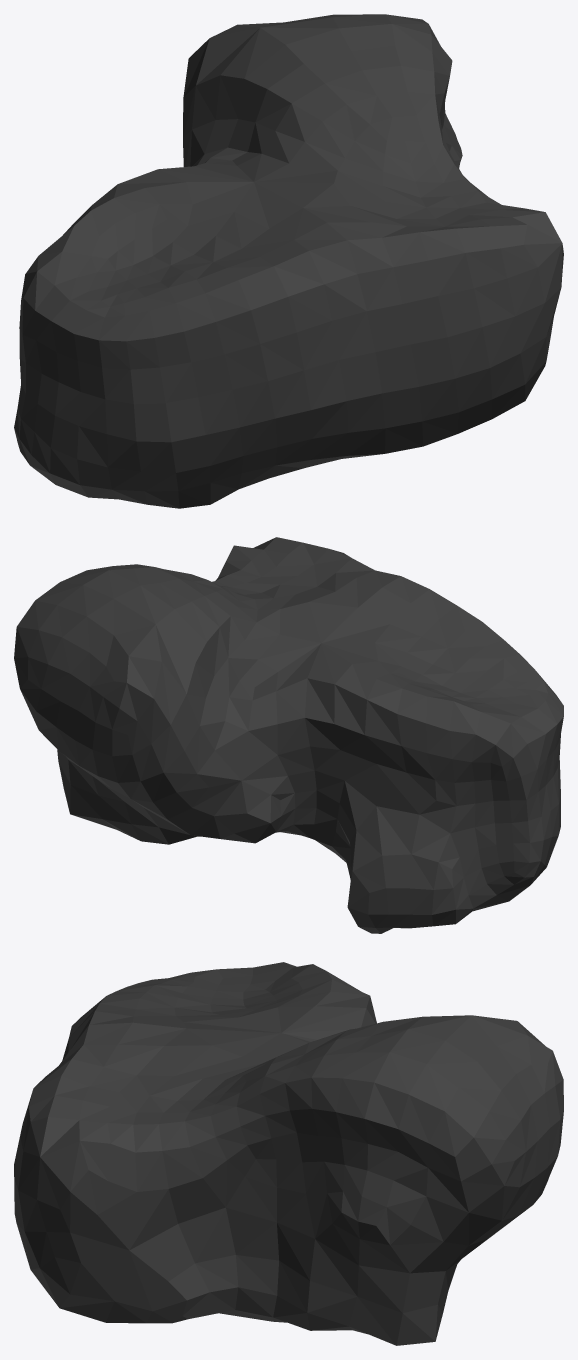
File: 3rd_carpal_L.glb
The picture shows the model from 3 angles, top to bottom: view 1: azimuth 30°, elevation 25°; view 2: azimuth 150°, elevation 25°; view 3: azimuth 270°, elevation 25°; orthographic projection. The views are drawn at different scales.
Visible parts, largest first — view 1: 3rd_carpal_L; view 2: 3rd_carpal_L; view 3: 3rd_carpal_L.
Boxes of the visible parts, box(x1,y1,x2,y2) form: 3rd_carpal_L: box(14, 14, 563, 508); 3rd_carpal_L: box(14, 537, 563, 933); 3rd_carpal_L: box(14, 962, 563, 1345).
Size of the model in its own units: 0.0768 by 0.0508 by 0.0694.
Materials: 1 (1 with a texture image).
